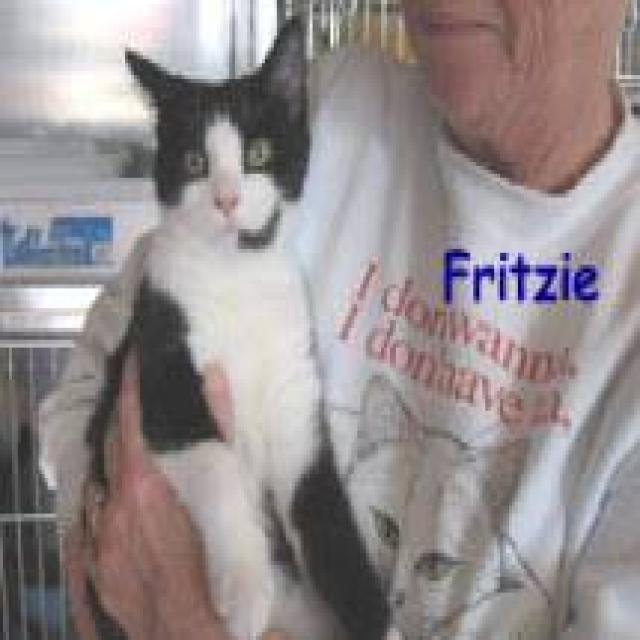cat: (74, 12, 390, 636)
